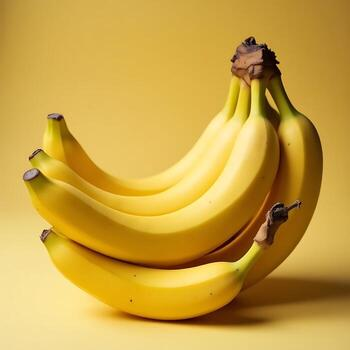banana: (17, 36, 324, 326)
